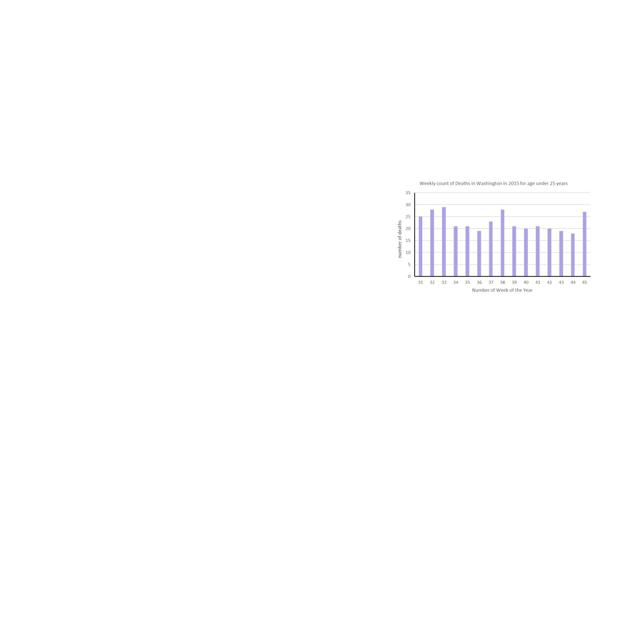Graph: (392, 177, 595, 298)
